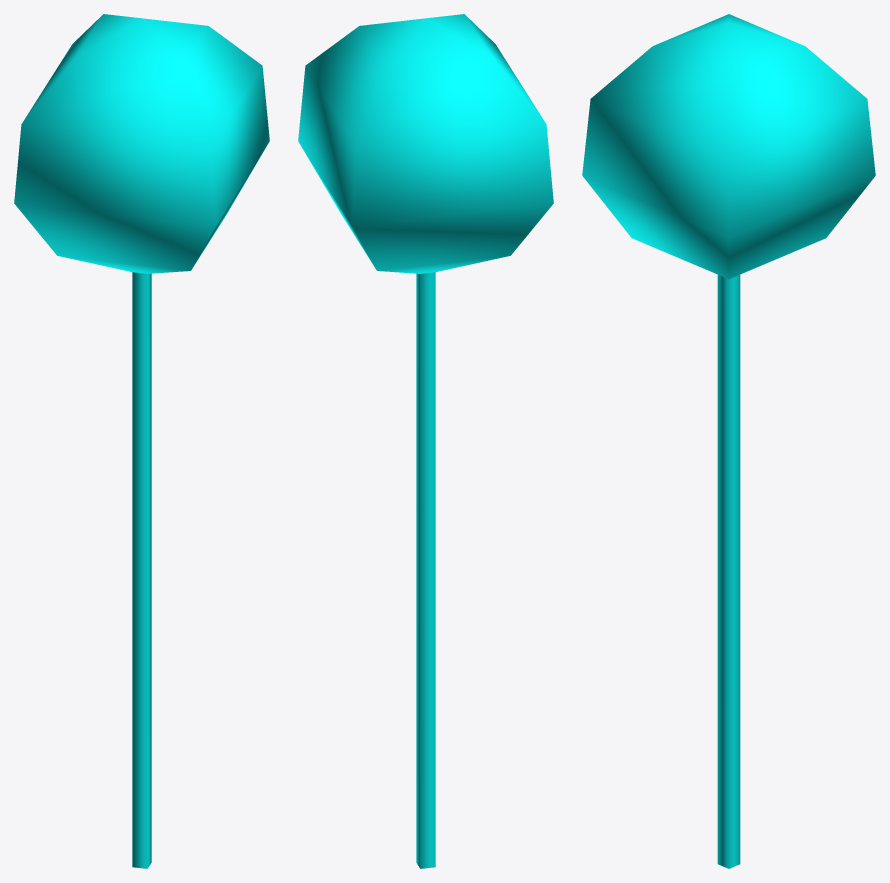
File: Chupachup LP 3.fbx
The picture shows the model from 3 angles, left to right: view 1: azimuth 30°, elevation 25°; view 2: azimuth 150°, elevation 25°; view 3: azimuth 270°, elevation 25°; orthographic projection.
Visible parts, largest first — view 1: Chupachup LP 3; view 2: Chupachup LP 3; view 3: Chupachup LP 3.
Part boxes in pixels (left/top/right/bottom): Chupachup LP 3: left=14, top=14, right=269, bottom=868; Chupachup LP 3: left=298, top=14, right=553, bottom=868; Chupachup LP 3: left=582, top=14, right=875, bottom=868.
Bounding box in the file's own units: 120 × 381 × 120.
